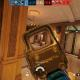Friend_label: (50, 34, 59, 38), (25, 32, 32, 36), (62, 38, 67, 40)
